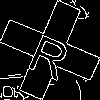R: (25, 25, 76, 81)
